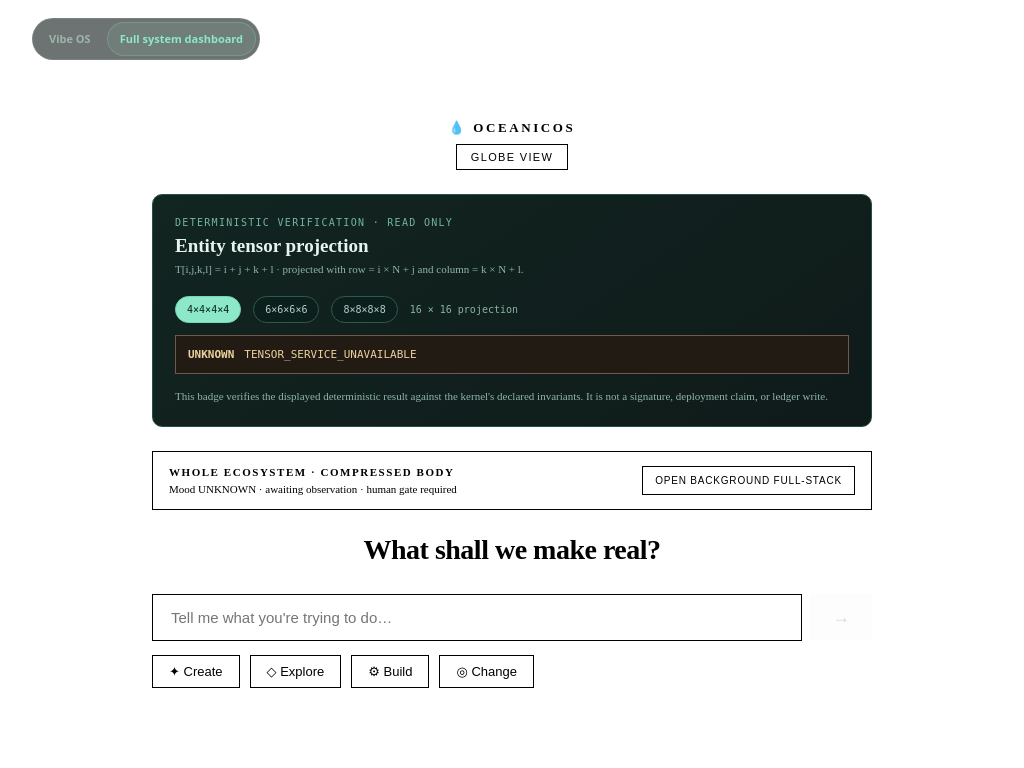
Scenario: legacy OceanicOS dashboard › surfaces a proposal error instead of showing a successful receipt
In the field with placeholder "Tell me what you're trying to do…": point(477, 618) [152,594,802,641], type "Review the current state."
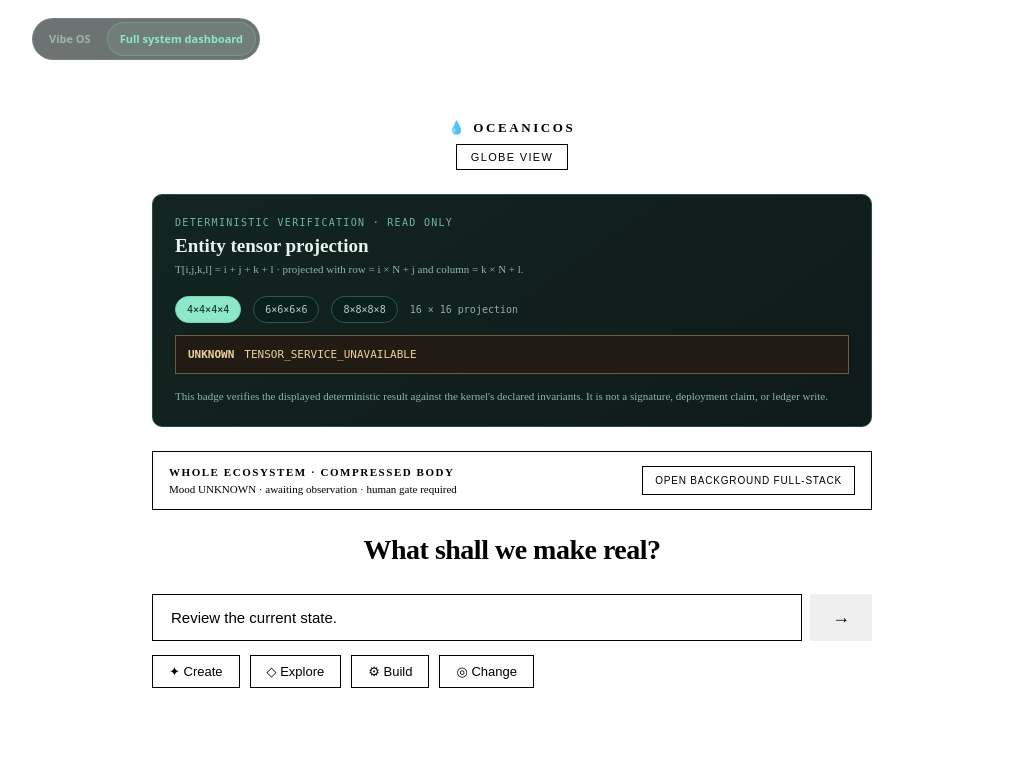
Click the button "→": point(841, 618) [810,594,872,641]
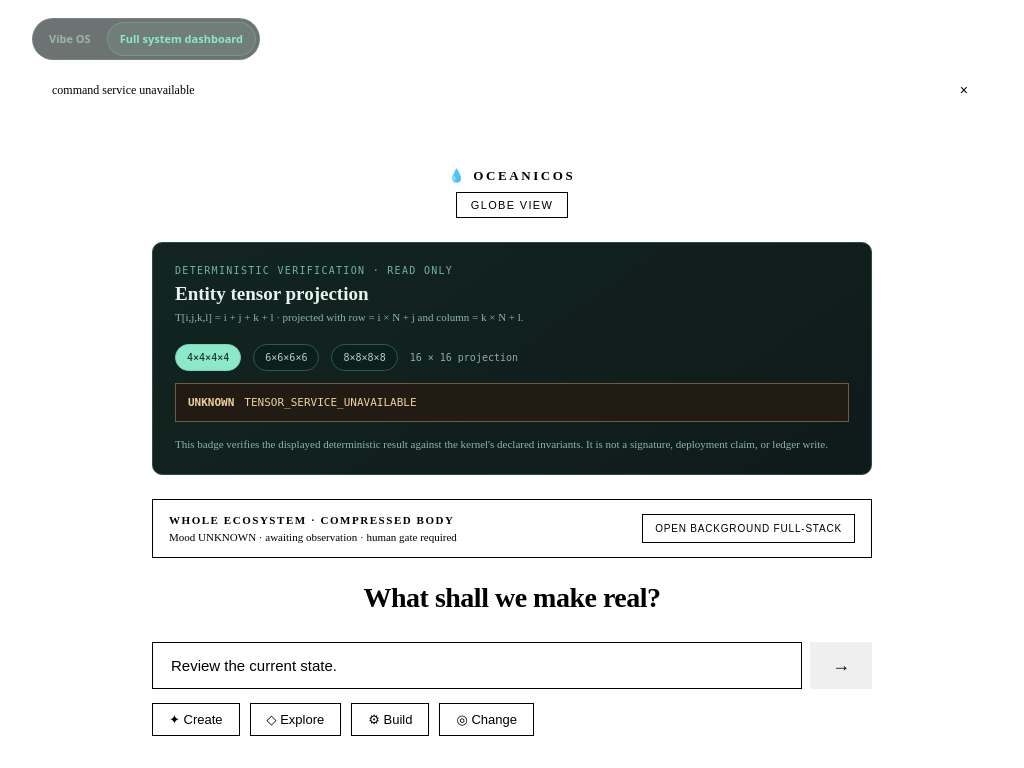
expect the text "command service unavailable" is shown: met, box [52,82,195,98]
